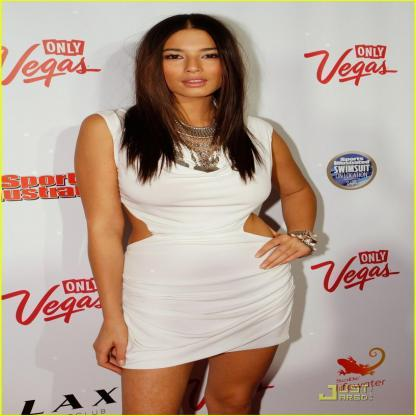long-hair: (134, 96, 248, 122)
